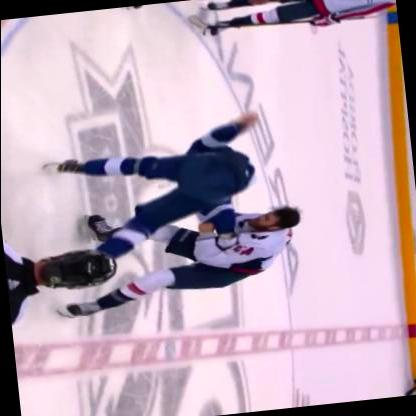non-Voilence: (196, 1, 397, 38)
voilence: (74, 110, 308, 306)
